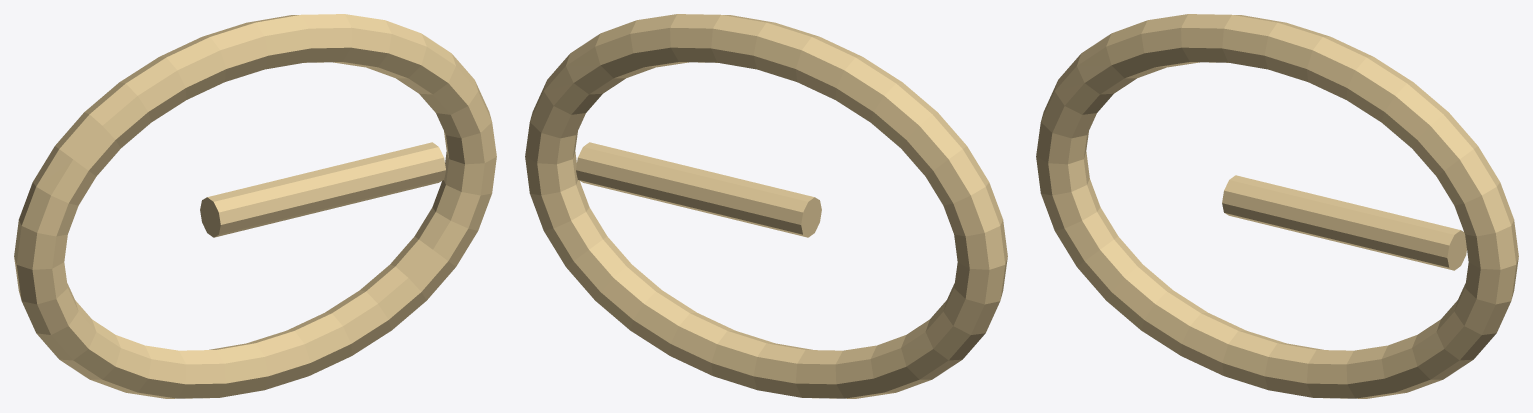
The model's file is ACC_Buckle_Oval.glb.
The picture shows the model from 3 angles, left to right: view 1: azimuth 30°, elevation 25°; view 2: azimuth 150°, elevation 25°; view 3: azimuth 330°, elevation 25°; orthographic projection.
Visible parts, largest first — view 1: ACC_Buckle_Oval_1, ACC_Buckle_Oval_2; view 2: ACC_Buckle_Oval_1, ACC_Buckle_Oval_2; view 3: ACC_Buckle_Oval_1, ACC_Buckle_Oval_2.
Part boxes in pixels (x1,y1,x2,y2): ACC_Buckle_Oval_1: (14,14,496,398); ACC_Buckle_Oval_2: (200,142,445,237); ACC_Buckle_Oval_1: (525,14,1007,398); ACC_Buckle_Oval_2: (576,142,821,237); ACC_Buckle_Oval_1: (1036,14,1518,398); ACC_Buckle_Oval_2: (1222,175,1466,270).
Bounding box in the file's own units: 0.053 × 0.039 × 0.005.
